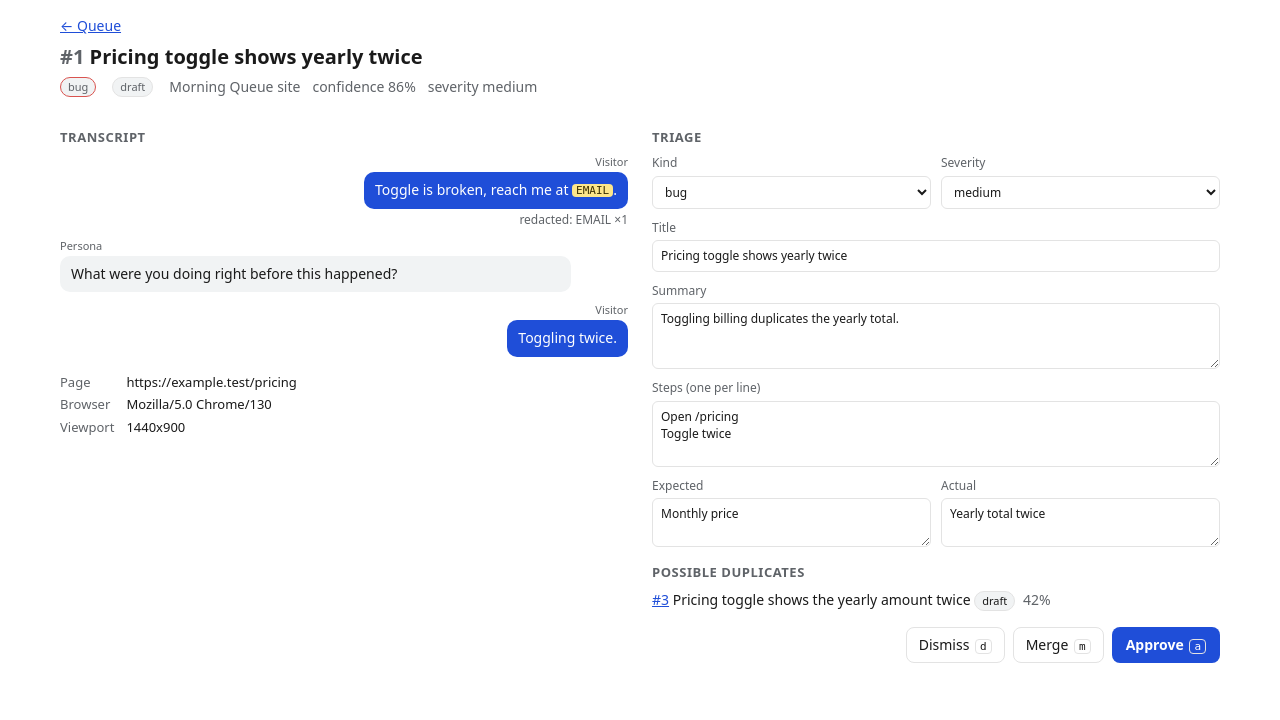
Test: TicketDetail › shows the server error when an action fails
This screenshot has width=1280, height=720.
Expected: the field labelled "Title" is shown, [652,240,1220,272]
Type keys "d"
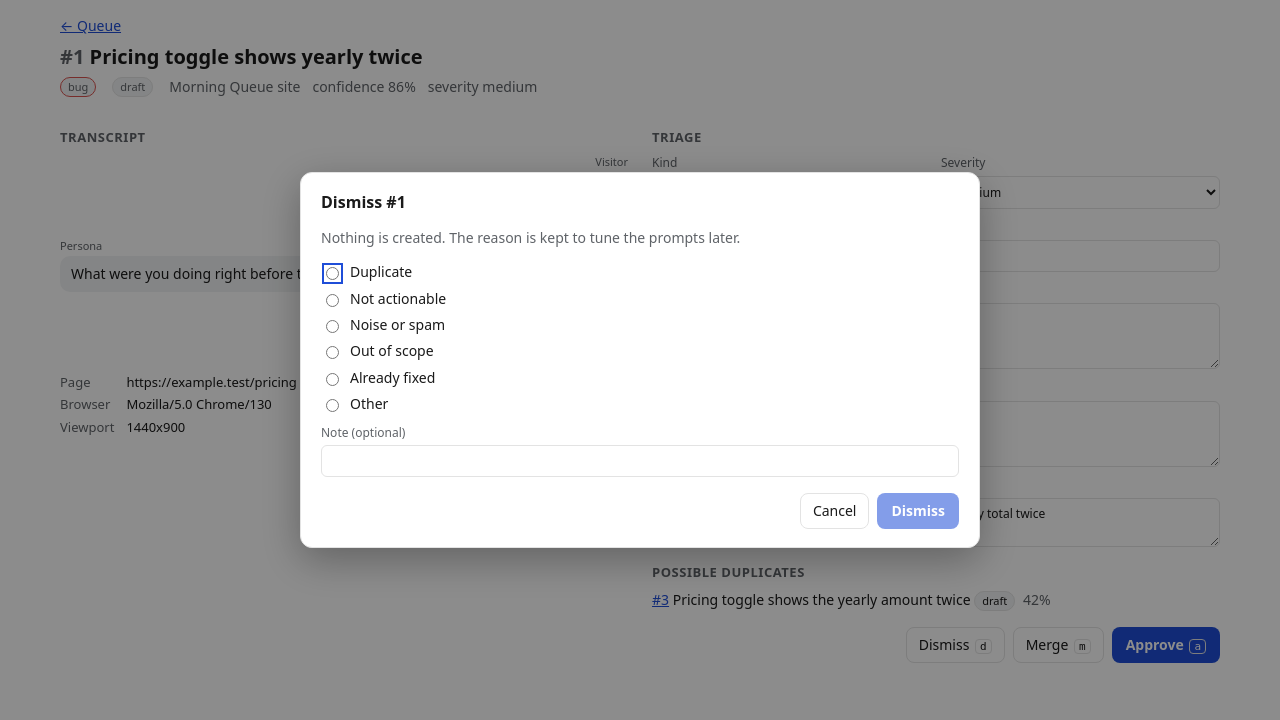
Click the radio button labelled "Noise or spam" at (332, 326), box [326,320,339,333]
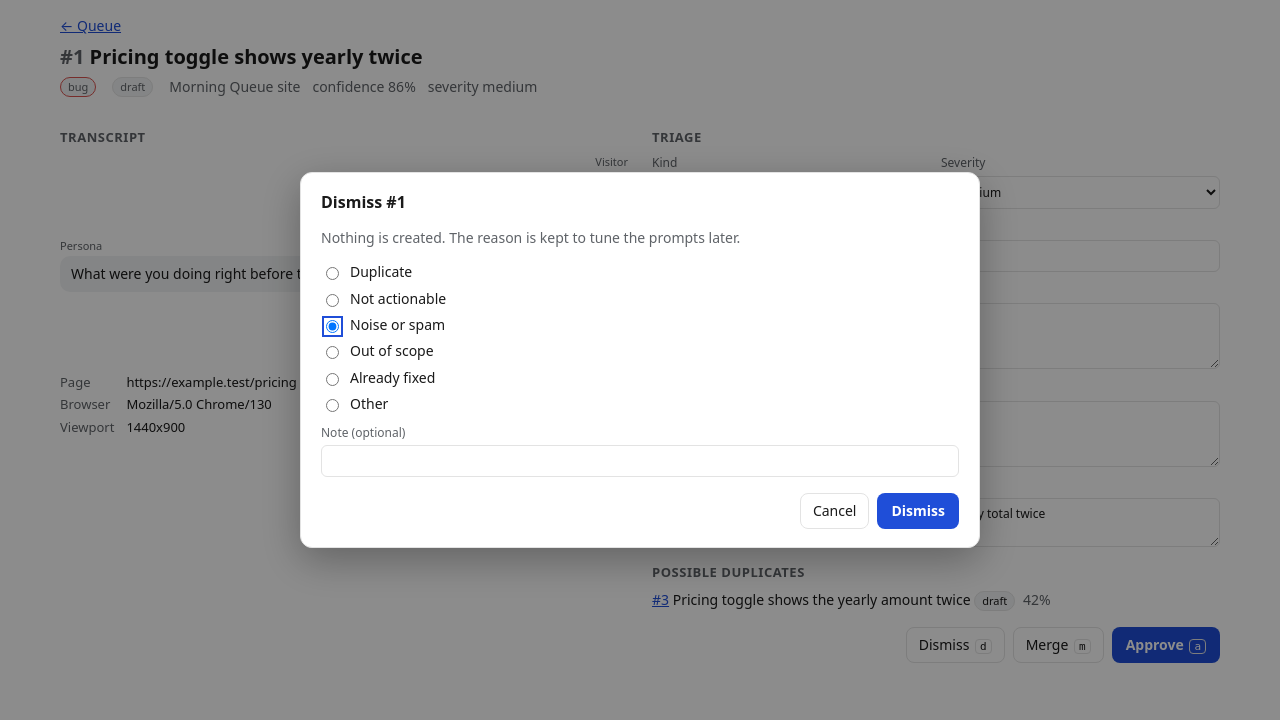
Click the button "Dismiss" at (918, 511), box [878,493,959,529]
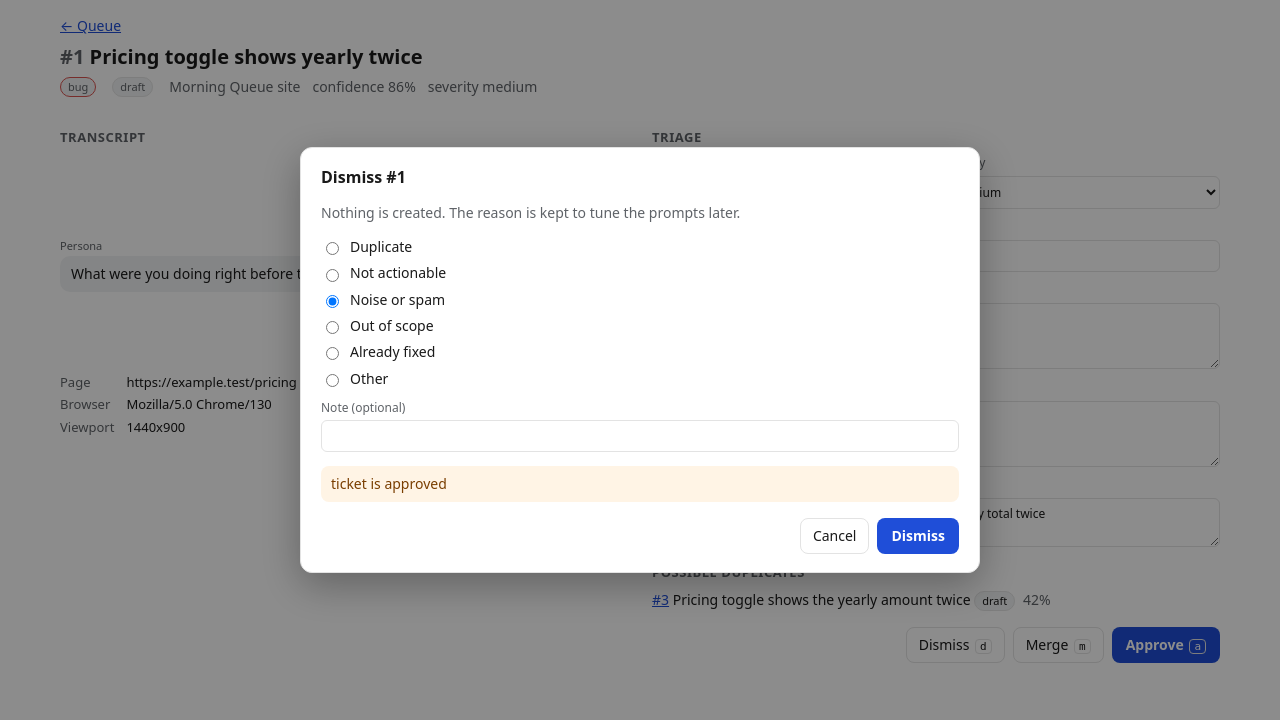
Expected: the message reads "ticket is approved", [331,474,447,493]
